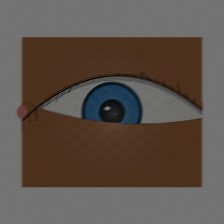hemorrhage_spot: (75, 82, 152, 144)
